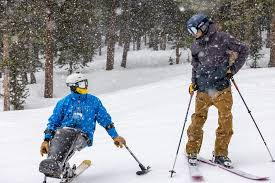skis: (184, 151, 271, 183), (36, 158, 93, 183)
